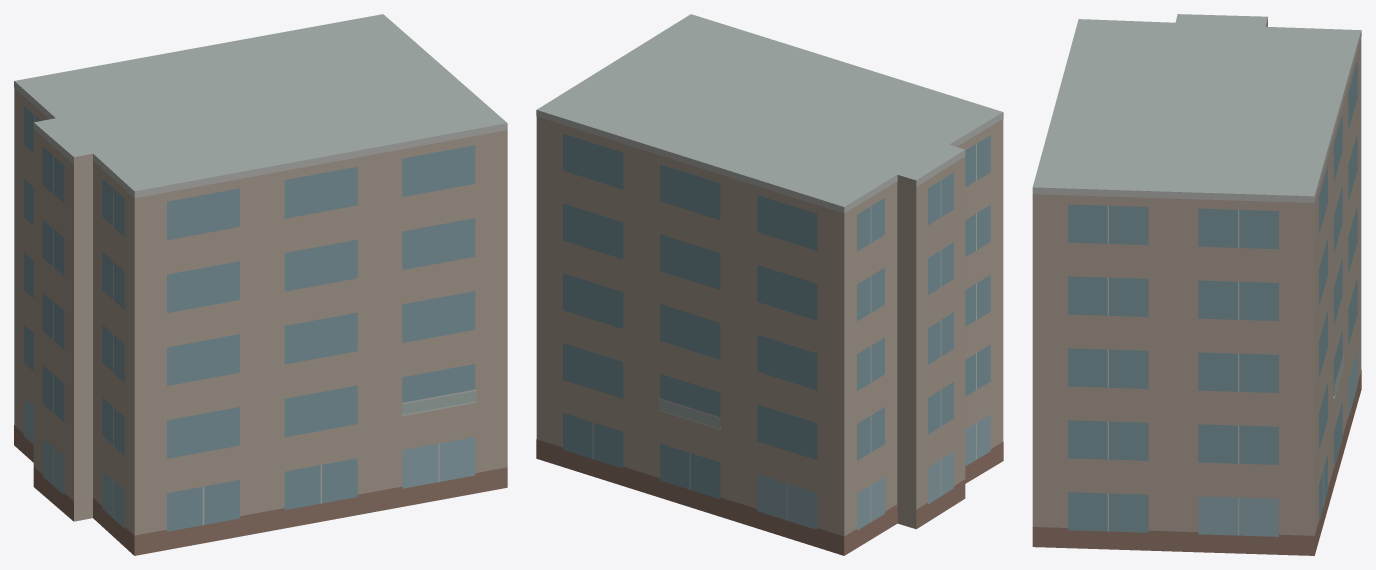
Rendered from survey-upis-32507721.glb.
3 views of the same model, side by side, from view 1: azimuth 30°, elevation 25°; view 2: azimuth 150°, elevation 25°; view 3: azimuth 270°, elevation 25° (orthographic). The views are drawn at different scales.
Parts seen in each view (by area): view 1: survey-upis-32507721.tmp; view 2: survey-upis-32507721.tmp; view 3: survey-upis-32507721.tmp.
Boxes of the visible parts, box(x1,y1,x2,y2) form: survey-upis-32507721.tmp: box(14, 14, 507, 555); survey-upis-32507721.tmp: box(536, 14, 1003, 555); survey-upis-32507721.tmp: box(1032, 14, 1361, 555).
Bounding box in the file's own units: 14.15 × 13 × 10.78.
